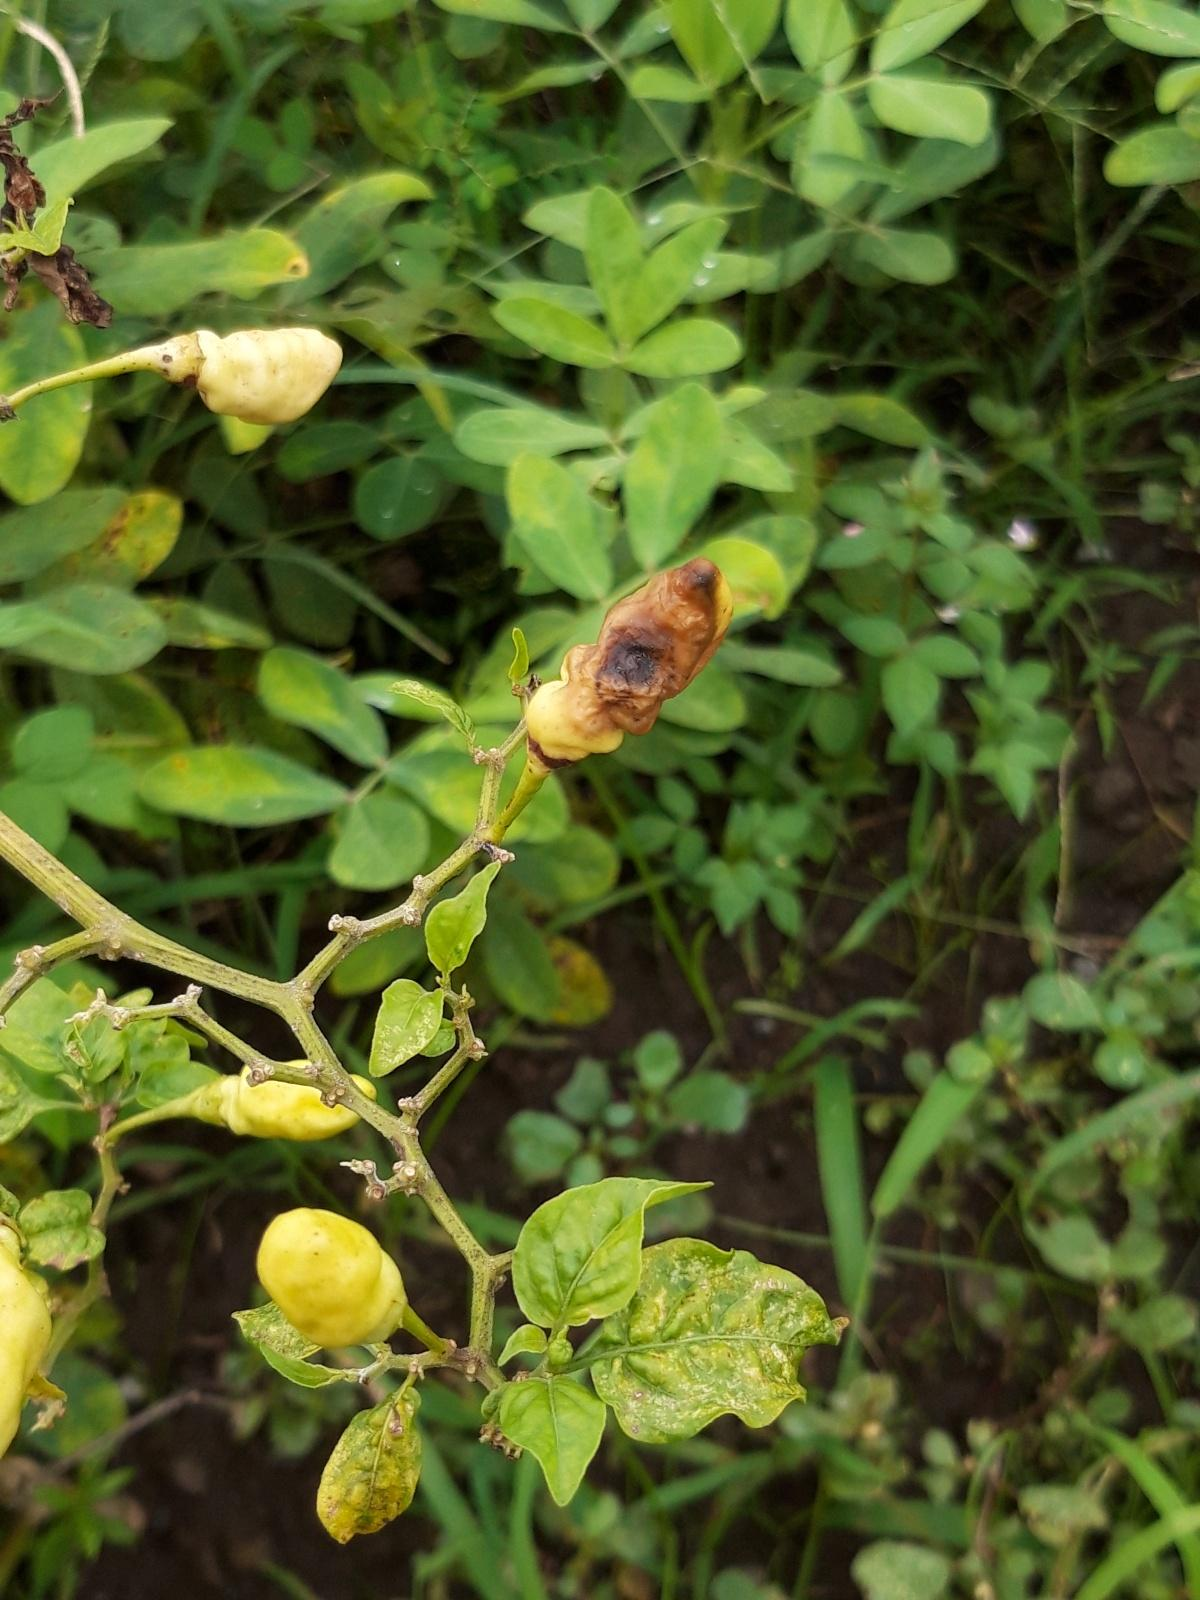cabai_normal: (252, 1207, 410, 1349), (158, 326, 343, 427), (221, 1068, 378, 1136)
lalat_buah: (521, 556, 734, 774)
